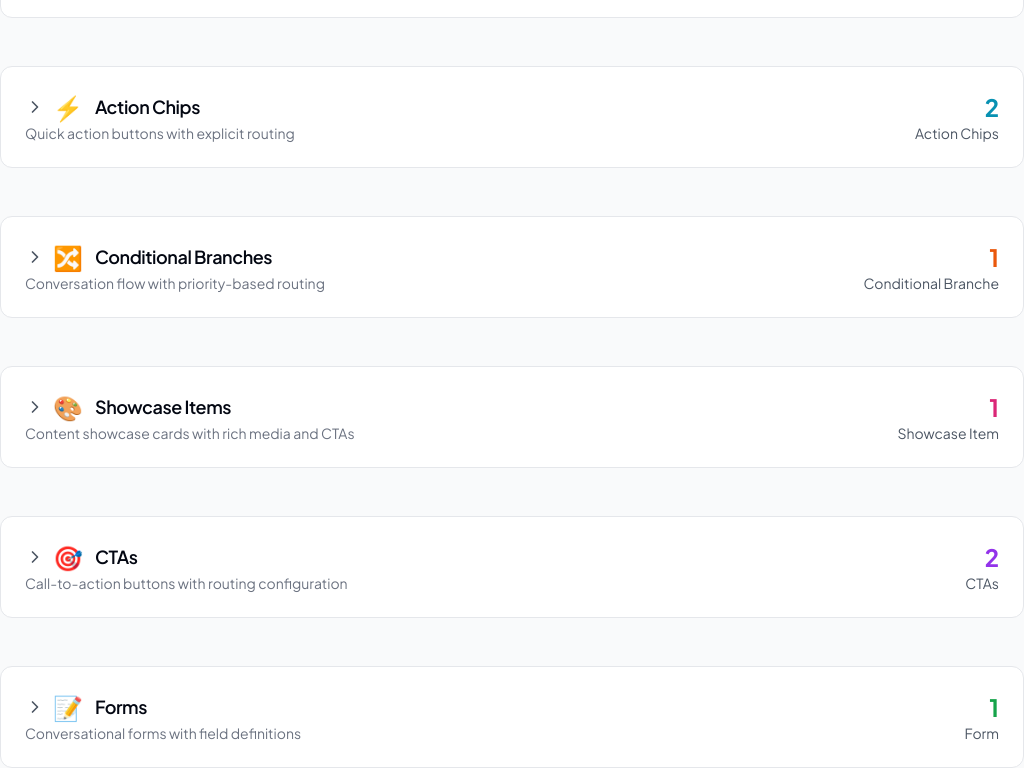
it: ConversationFlowDiagram › Rich Metadata › should show CTA action type badges
This screenshot has width=1024, height=768.
Note: Expand CTAs section
Step 1. Click the button named "Expand section" → (54, 557), box left=25, top=541, right=83, bottom=573
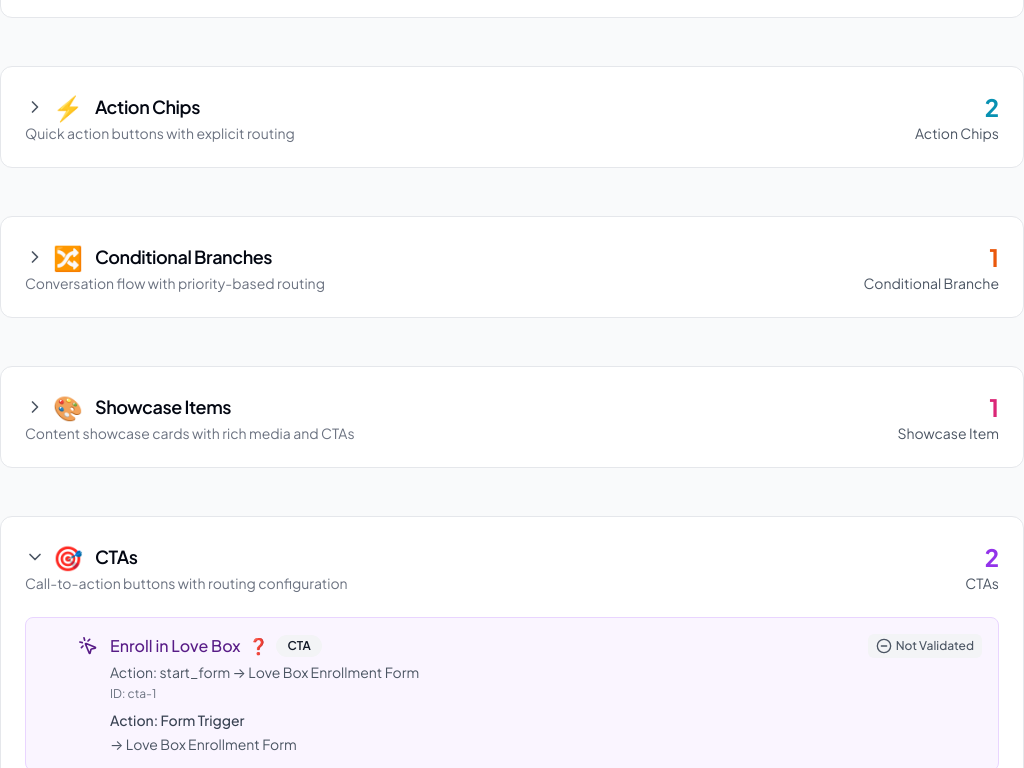
Expected: the text "Action: start_form → Love Box Enrollment Form" is shown, left=110, top=663, right=419, bottom=681
